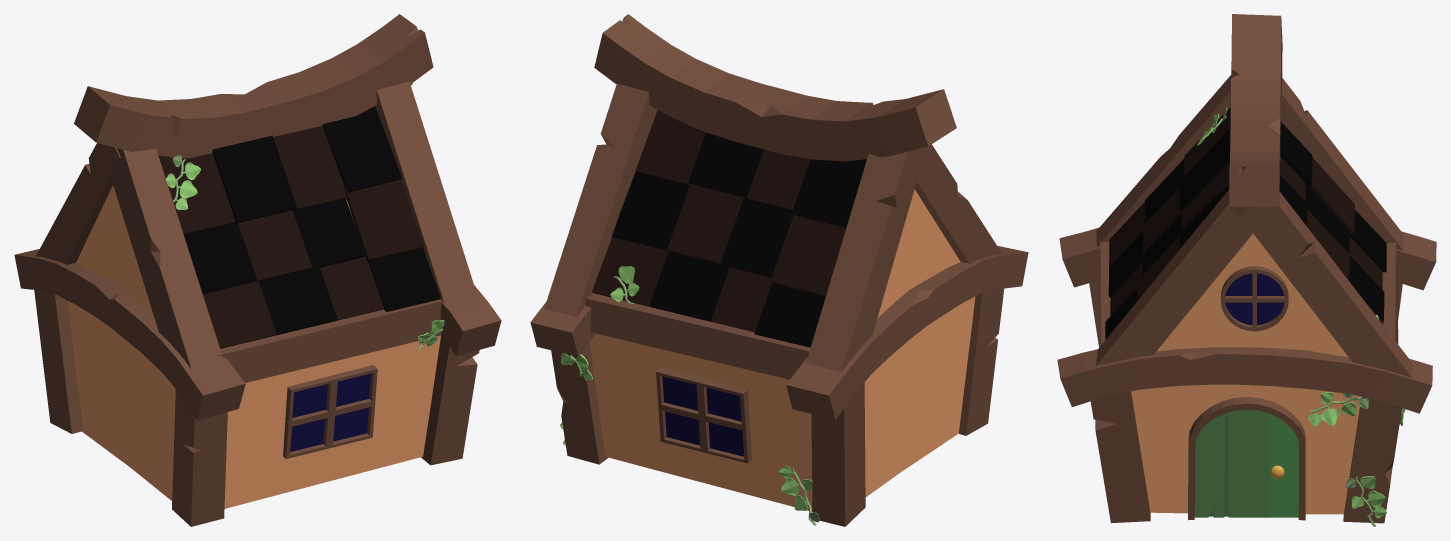
File: maison.fbx
3 views of the same model, side by side, from view 1: azimuth 30°, elevation 25°; view 2: azimuth 150°, elevation 25°; view 3: azimuth 270°, elevation 25° (orthographic). The views are drawn at different scales.
Visible parts, largest first — view 1: Cube.027; view 2: Cube.027; view 3: Cube.027.
Boxes of the visible parts, x1,y1,x2,y2 form: Cube.027: (14, 14, 501, 526); Cube.027: (530, 14, 1028, 526); Cube.027: (1057, 14, 1436, 526).
Bounding box in the file's own units: 766 × 836 × 767.
